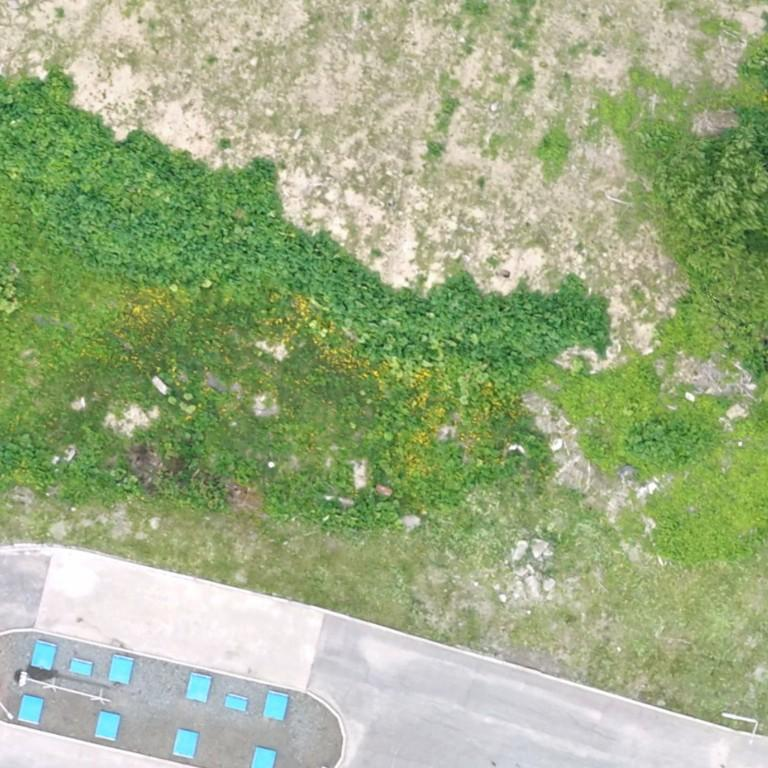hogweed: (627, 420, 712, 463)
